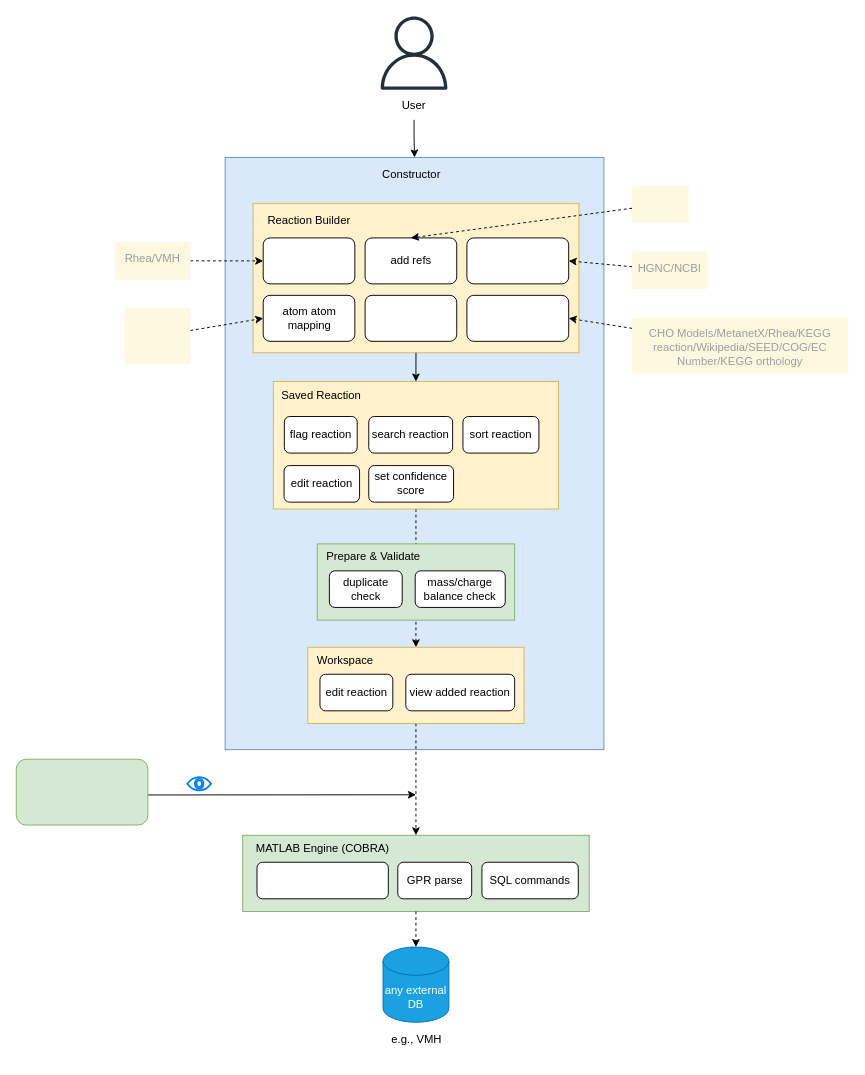
The diagram is 865 pixels wide and 1075 high, and some of its shapes have lost their labels. The shapes that lost their labels are listed below. From the top down, each one's centre as x and y in pixels, then its label:
At pixel 660 204: "PMID/DOI".
At pixel 308 260: "create reaction".
At pixel 517 260: "add gene info".
At pixel 157 335: "Reaction Decoder Tool".
At pixel 410 317: "mass & charge balance".
At pixel 517 317: "add external links & comments".
At pixel 81 791: "Admin Console admin-certified users only; audit & rollback".
At pixel 322 880: "build model / addMultipleReactions".
